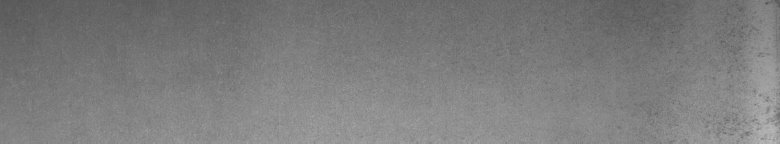ib: (714, 29, 776, 136)
